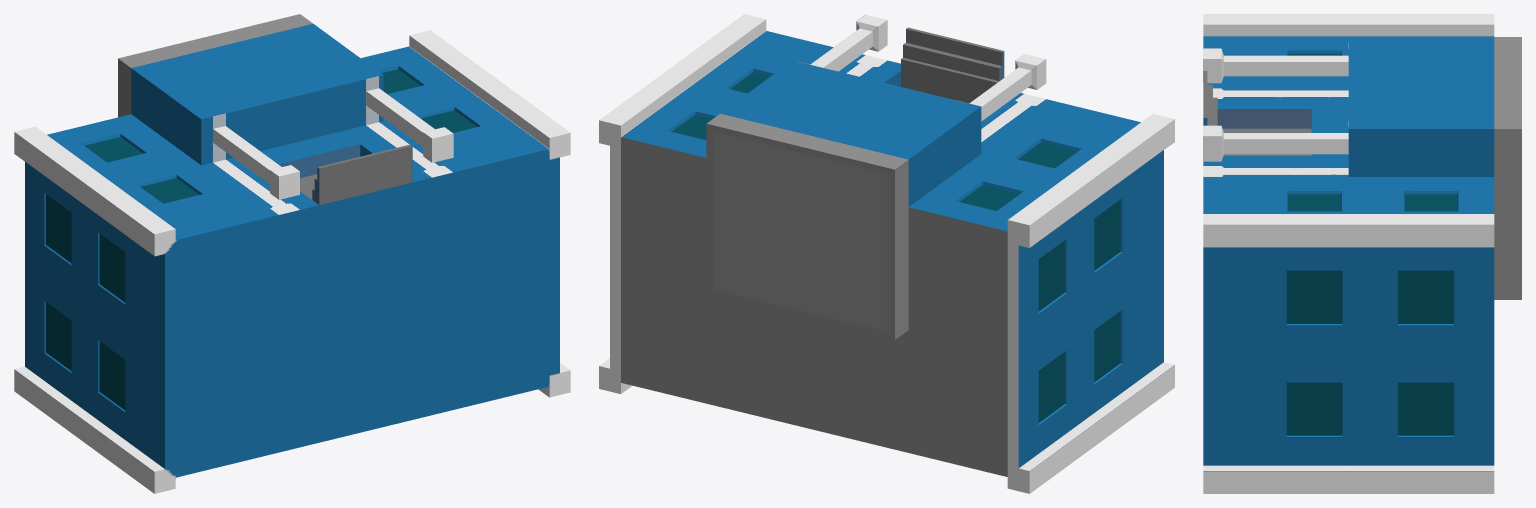
The model's file is police-station.fbx.
3 views of the same model, side by side, from view 1: azimuth 30°, elevation 25°; view 2: azimuth 150°, elevation 25°; view 3: azimuth 270°, elevation 25° (orthographic). The views are drawn at different scales.
Parts seen in each view (by area): view 1: police-station; view 2: police-station; view 3: police-station.
Boxes of the visible parts, x1,y1,x2,y2 form: police-station: (14,14,570,493); police-station: (599,14,1174,493); police-station: (1203,14,1521,493).
Bounding box in the file's own units: 14.2 × 9.6 × 9.08.
